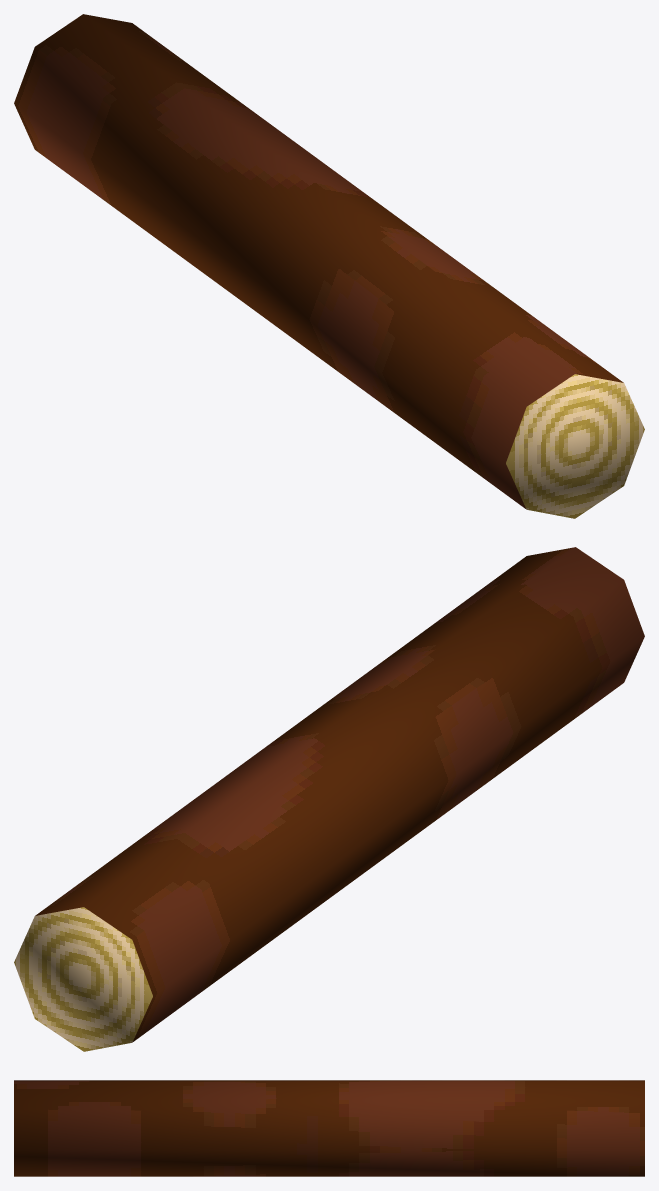
File: log_mid.fbx
3 renders of one model, top to bottom at view 1: azimuth 30°, elevation 25°; view 2: azimuth 150°, elevation 25°; view 3: azimuth 270°, elevation 25°, orthographic. The views are drawn at different scales.
Parts seen in each view (by area): view 1: ORG_LOG_MEDIUM; view 2: ORG_LOG_MEDIUM; view 3: ORG_LOG_MEDIUM.
Boxes of the visible parts, <box> form: ORG_LOG_MEDIUM: <box>14,14,644,518</box>; ORG_LOG_MEDIUM: <box>14,547,644,1051</box>; ORG_LOG_MEDIUM: <box>14,1080,644,1176</box>.
Size of the model in its own units: 1044 by 1038 by 6388.
